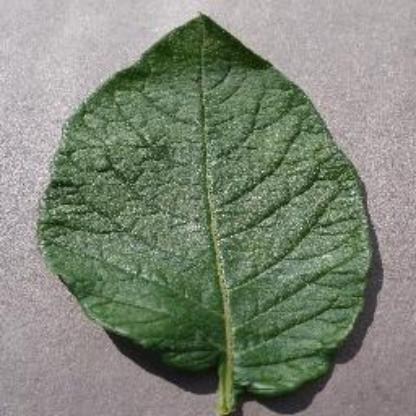Healthy-plant: (34, 11, 382, 407)
